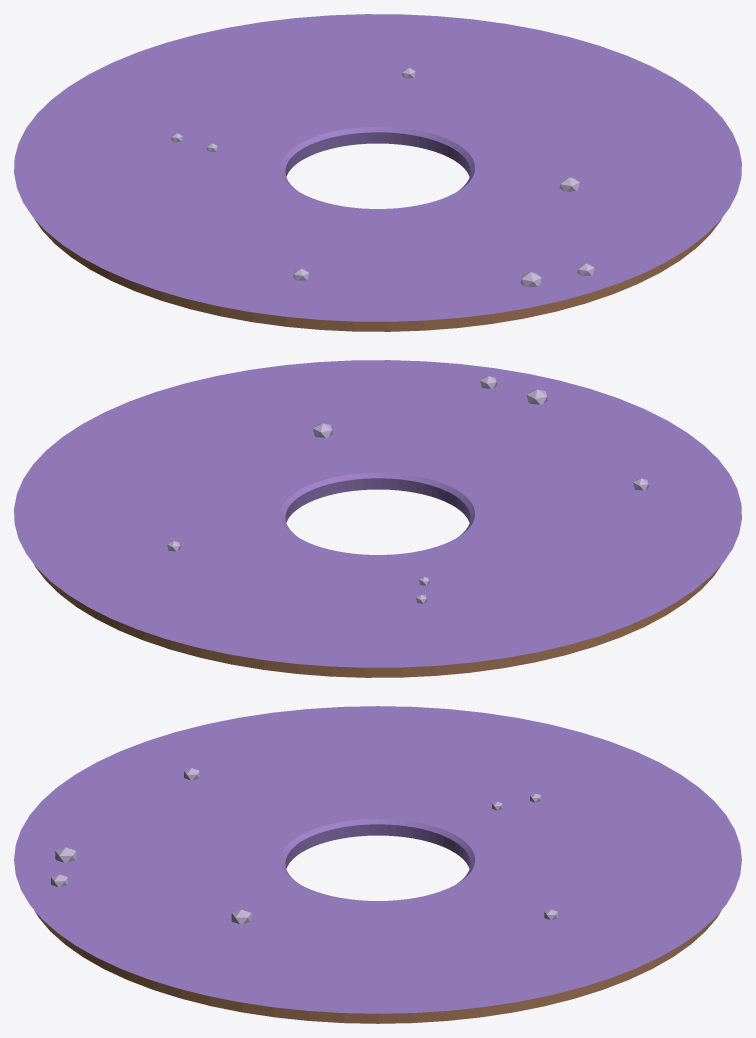
File: goo_jar_deck_3@mushroom.fbx
3 renders of one model, top to bottom at view 1: azimuth 30°, elevation 25°; view 2: azimuth 150°, elevation 25°; view 3: azimuth 270°, elevation 25°, orthographic.
Visible parts, largest first — view 1: goo_jar_deck_3; view 2: goo_jar_deck_3; view 3: goo_jar_deck_3.
Boxes of the visible parts, box(x1,y1,x2,y2) form: goo_jar_deck_3: box(14, 14, 741, 331); goo_jar_deck_3: box(14, 360, 741, 677); goo_jar_deck_3: box(14, 706, 741, 1023).
Size of the model in its own units: 47.2 by 1.84 by 47.2.
